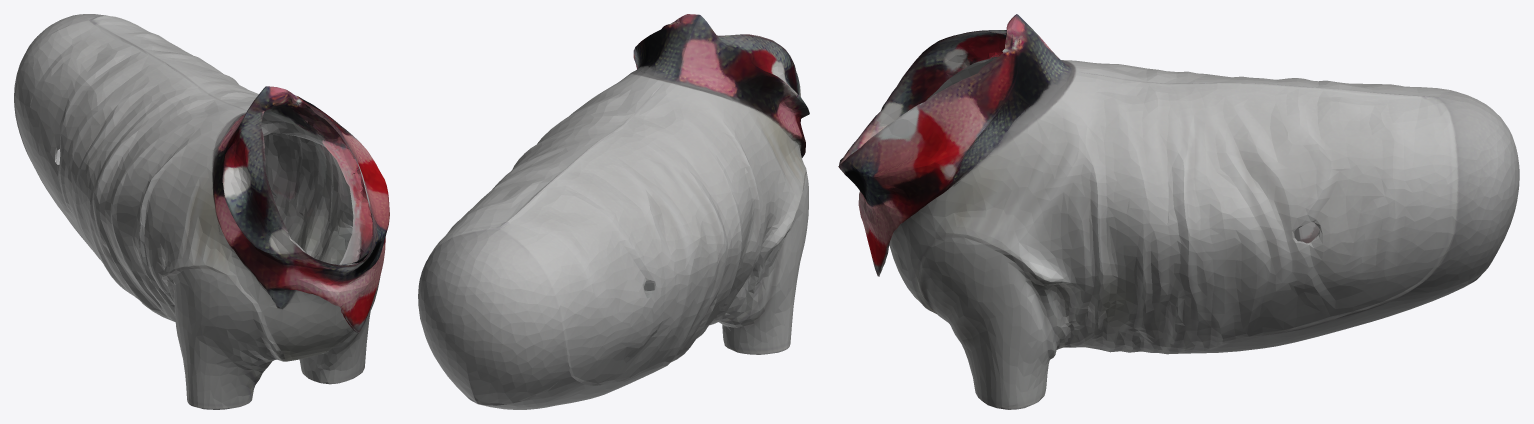
Rendered from polo.glb.
The picture shows the model from 3 angles, left to right: view 1: azimuth 30°, elevation 25°; view 2: azimuth 150°, elevation 25°; view 3: azimuth 270°, elevation 25°; orthographic projection. The views are drawn at different scales.
Visible parts, largest first — view 1: world; view 2: world; view 3: world.
Boxes of the visible parts, <box> form: world: <box>14,14,389,409</box>; world: <box>418,14,809,409</box>; world: <box>838,14,1519,409</box>.
Bounding box in the file's own units: 0.4101 × 0.5576 × 1.
Materials: 1 (1 with a texture image).
